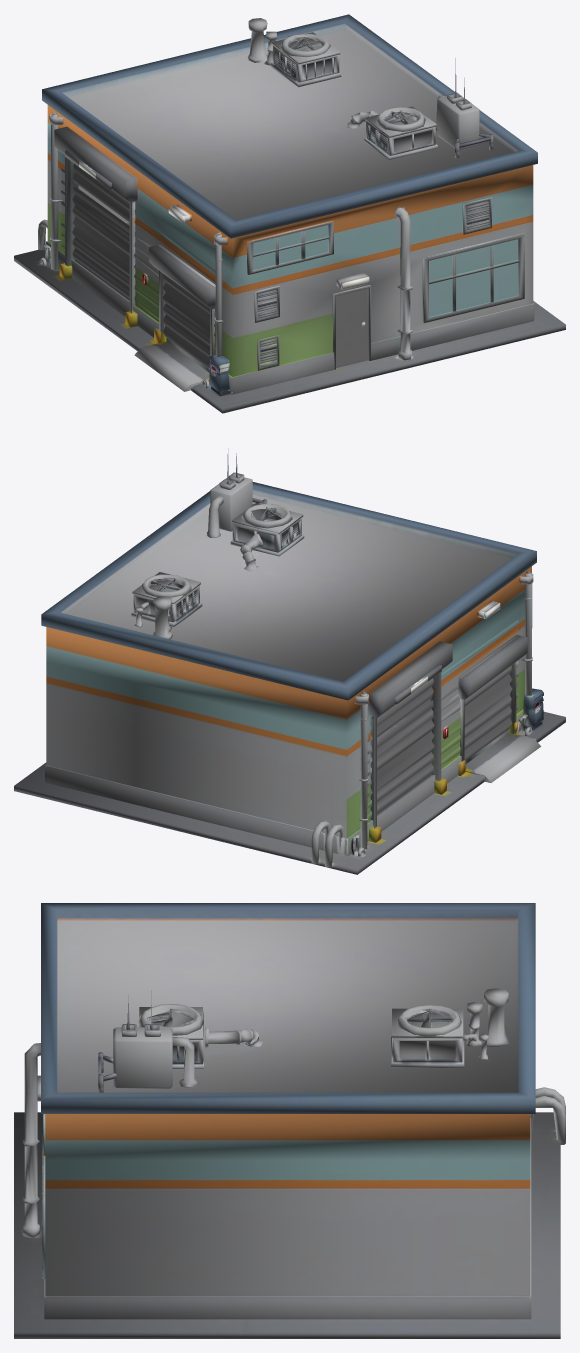
File: selected.glb
The picture shows the model from 3 angles, top to bottom: view 1: azimuth 30°, elevation 25°; view 2: azimuth 150°, elevation 25°; view 3: azimuth 270°, elevation 25°; orthographic projection. The views are drawn at different scales.
Visible parts, largest first — view 1: tripo_node_3921d3fa-7919-4d8e-84fe-17ef5b70a44a; view 2: tripo_node_3921d3fa-7919-4d8e-84fe-17ef5b70a44a; view 3: tripo_node_3921d3fa-7919-4d8e-84fe-17ef5b70a44a.
Part boxes in pixels (x1,y1,x2,y2): tripo_node_3921d3fa-7919-4d8e-84fe-17ef5b70a44a: [14, 14, 565, 413]; tripo_node_3921d3fa-7919-4d8e-84fe-17ef5b70a44a: [14, 448, 565, 874]; tripo_node_3921d3fa-7919-4d8e-84fe-17ef5b70a44a: [14, 903, 565, 1338].
Bounding box in the file's own units: 0.959 × 0.6504 × 0.998.
1 material, 1 textured.
